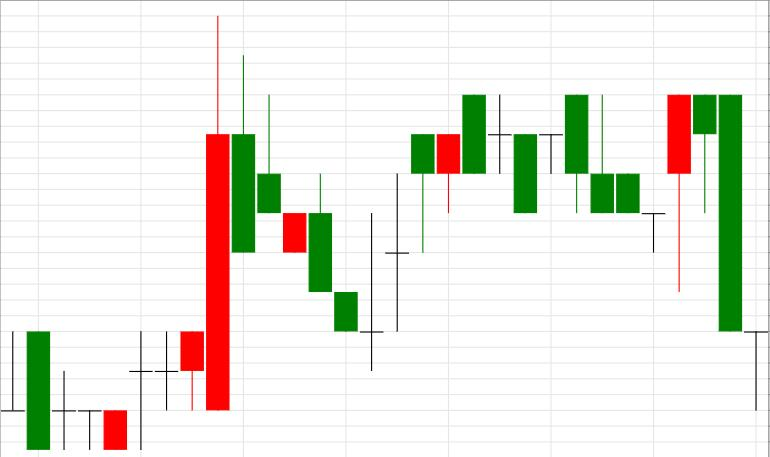hanging_man_fall: (591, 95, 716, 291), (335, 135, 435, 369)
